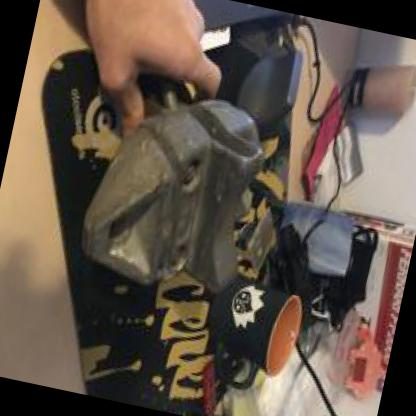Twistlock: (55, 52, 293, 331)
